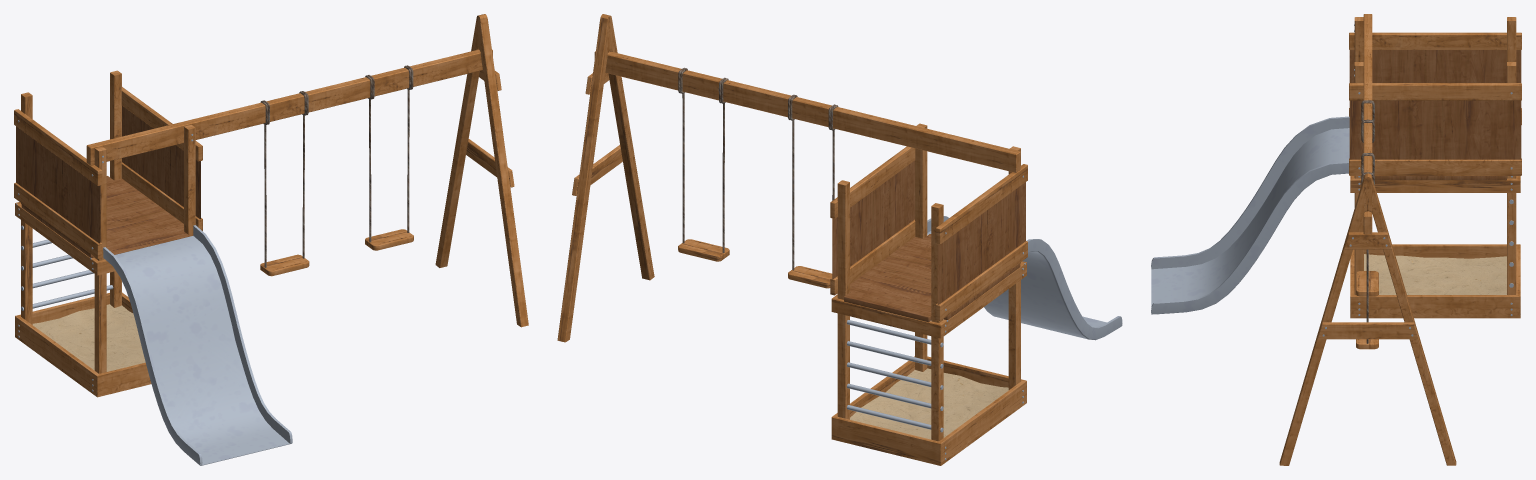
The model's file is PlayGroundSwing_Wheeler.fbx.
3 renders of one model, left to right at view 1: azimuth 30°, elevation 25°; view 2: azimuth 150°, elevation 25°; view 3: azimuth 270°, elevation 25°, orthographic. The views are drawn at different scales.
Parts seen in each view (by area): view 1: Post9; view 2: Post9; view 3: Post9.
Part boxes in pixels (box(x1,y1,x2,y2)): Post9: box(14, 14, 528, 465); Post9: box(557, 14, 1122, 465); Post9: box(1151, 14, 1521, 465).
Bounding box in the file's own units: 418 × 277 × 322.
